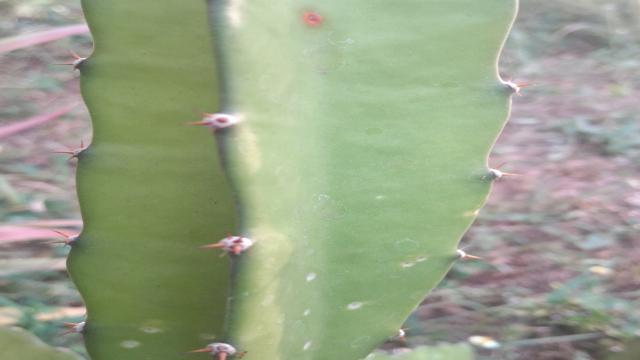stemcanker: (296, 7, 329, 34)
